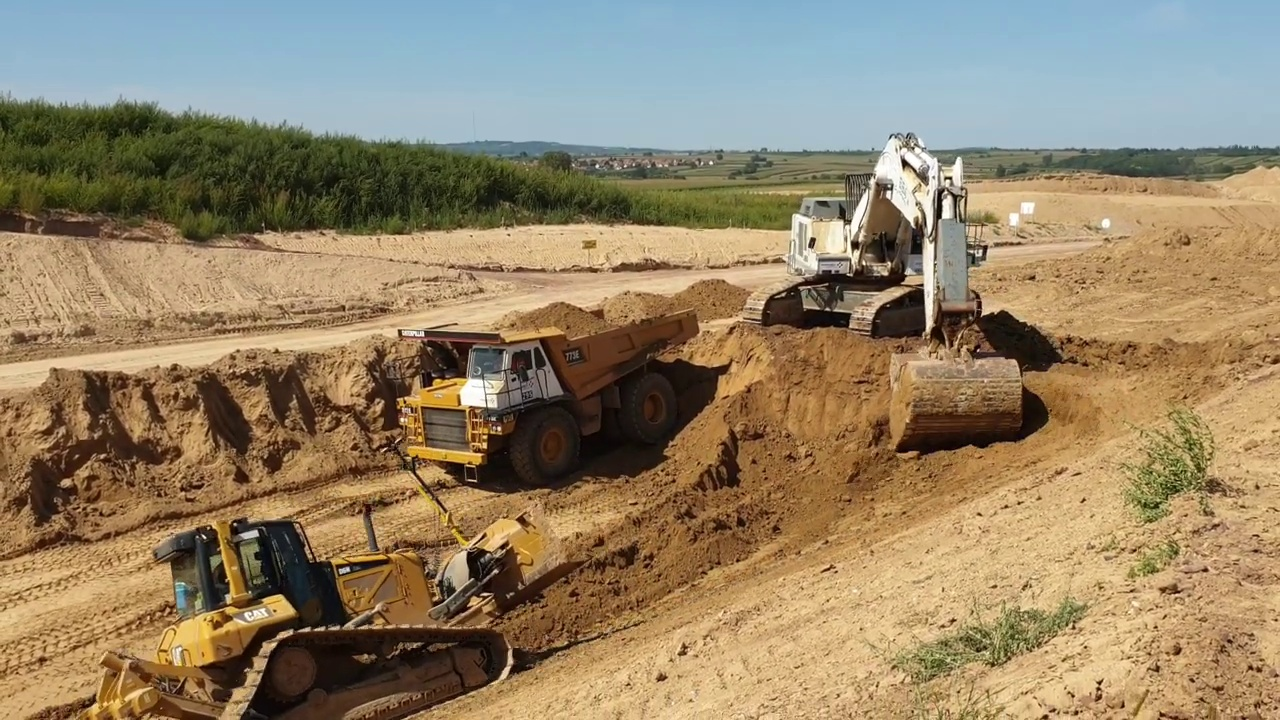bulldozer: (85, 440, 562, 720)
excavator: (742, 127, 1030, 454)
truck: (395, 310, 705, 492)
